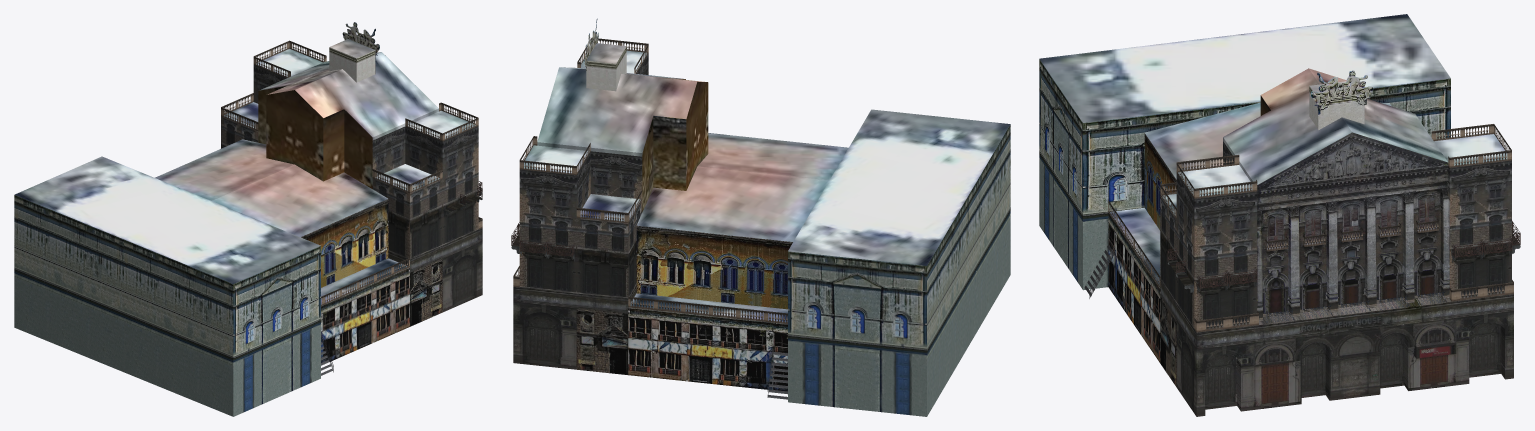
File: opera.glb
3 views of the same model, side by side, from view 1: azimuth 30°, elevation 25°; view 2: azimuth 150°, elevation 25°; view 3: azimuth 270°, elevation 25° (orthographic). The views are drawn at different scales.
Parts seen in each view (by area): view 1: Geom3D (×11); view 2: Geom3D (×11); view 3: Geom3D (×10).
Part boxes in pixels (left/top/right/bottom): Geom3D (×11): left=14, top=22, right=482, bottom=416; Geom3D (×11): left=513, top=38, right=1010, bottom=416; Geom3D (×10): left=1039, top=14, right=1513, bottom=416.
Bounding box in the file's own units: 45.37 × 27.67 × 39.
16 materials, 16 textured.
